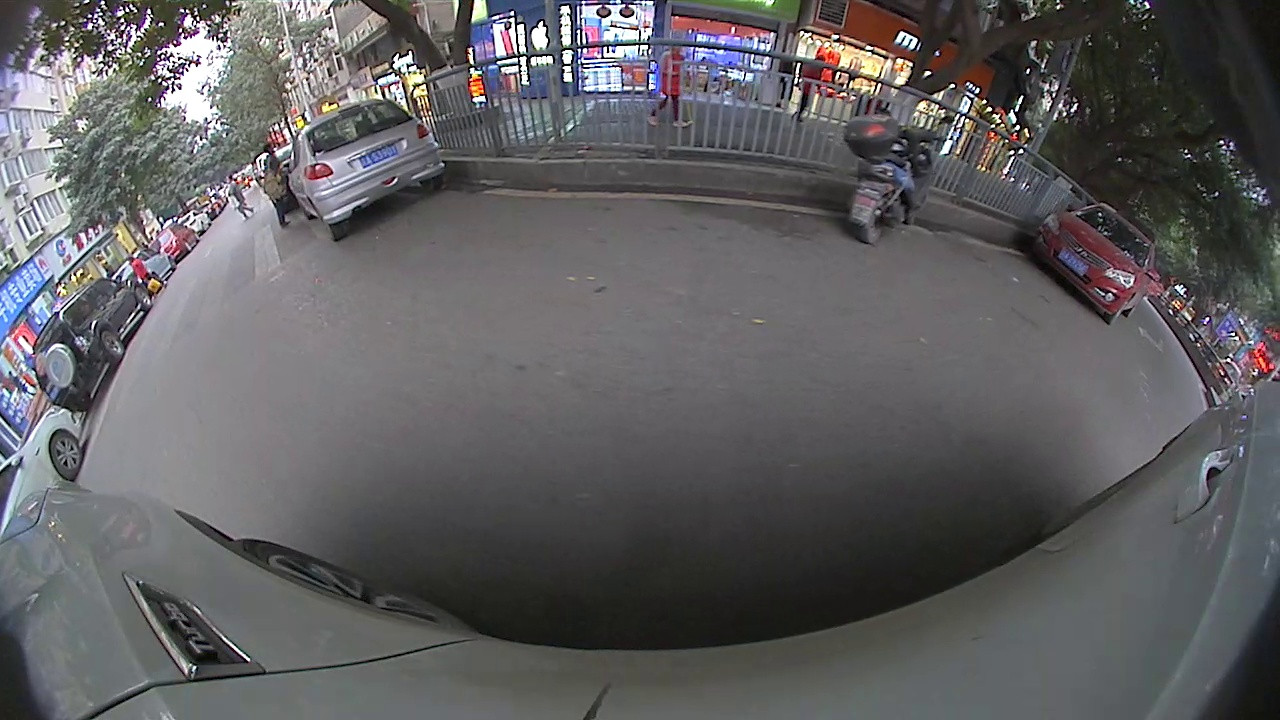car: (288, 99, 449, 244), (32, 279, 152, 412), (1027, 203, 1156, 326), (0, 405, 87, 533), (264, 144, 300, 209)
front: (46, 431, 86, 480)
person: (260, 147, 280, 226), (132, 255, 148, 303)
rear: (100, 328, 123, 361)
rider: (842, 108, 954, 246)
